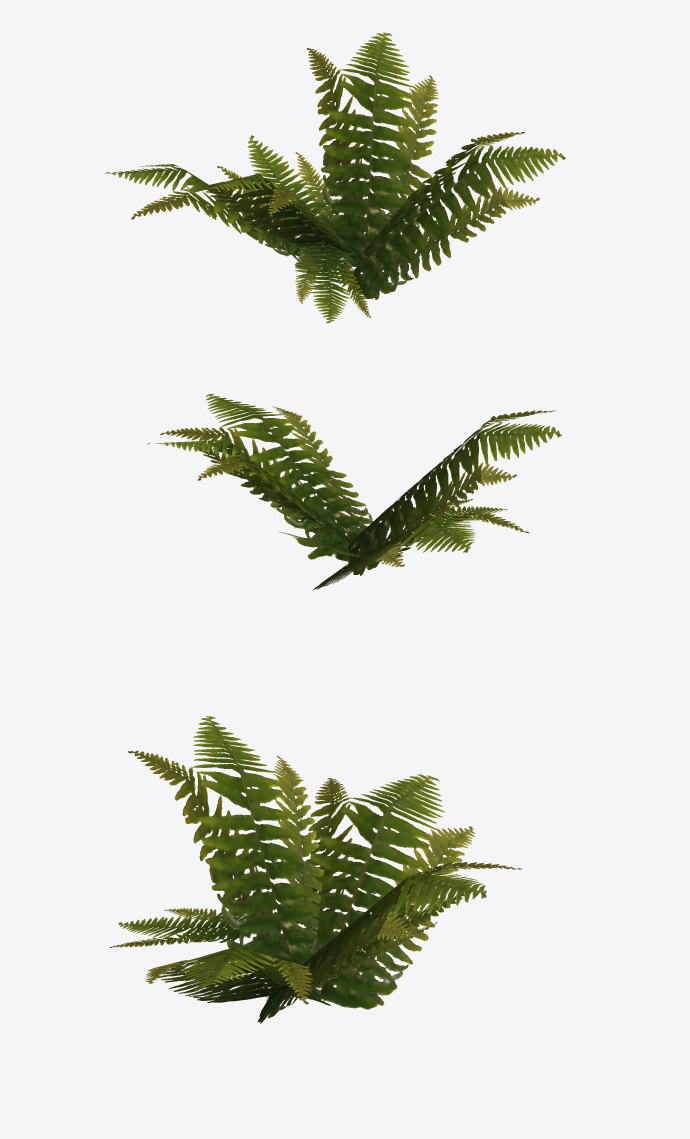
Rendered from eyecandy_fern_lush_a.glb.
The picture shows the model from 3 angles, top to bottom: view 1: azimuth 30°, elevation 25°; view 2: azimuth 150°, elevation 25°; view 3: azimuth 270°, elevation 25°; orthographic projection. The views are drawn at different scales.
Visible parts, largest first — view 1: eyecandy_fern_lush_a; view 2: eyecandy_fern_lush_a; view 3: eyecandy_fern_lush_a.
Part boxes in pixels (box(x1,y1,x2,y2)): eyecandy_fern_lush_a: box(105, 32, 565, 323); eyecandy_fern_lush_a: box(147, 393, 561, 590); eyecandy_fern_lush_a: box(110, 716, 522, 1023).
Bounding box in the file's own units: 5.3 × 1.58 × 4.3.
Materials: 1 (1 with a texture image).
